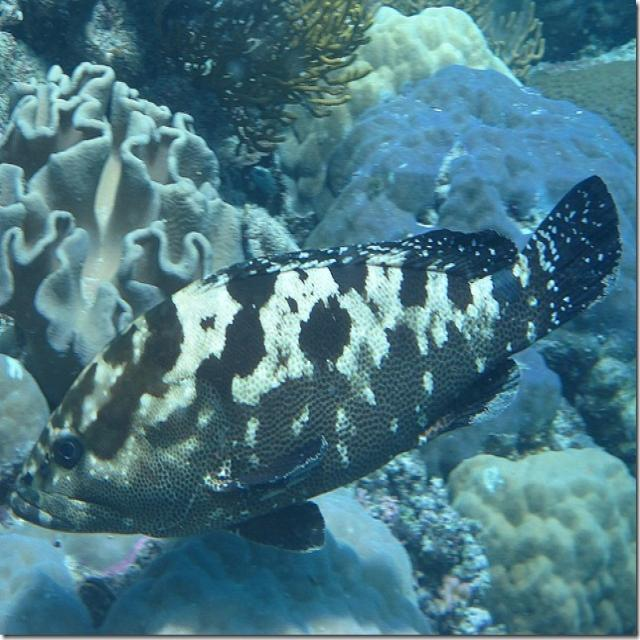ikan: (8, 170, 622, 552)
